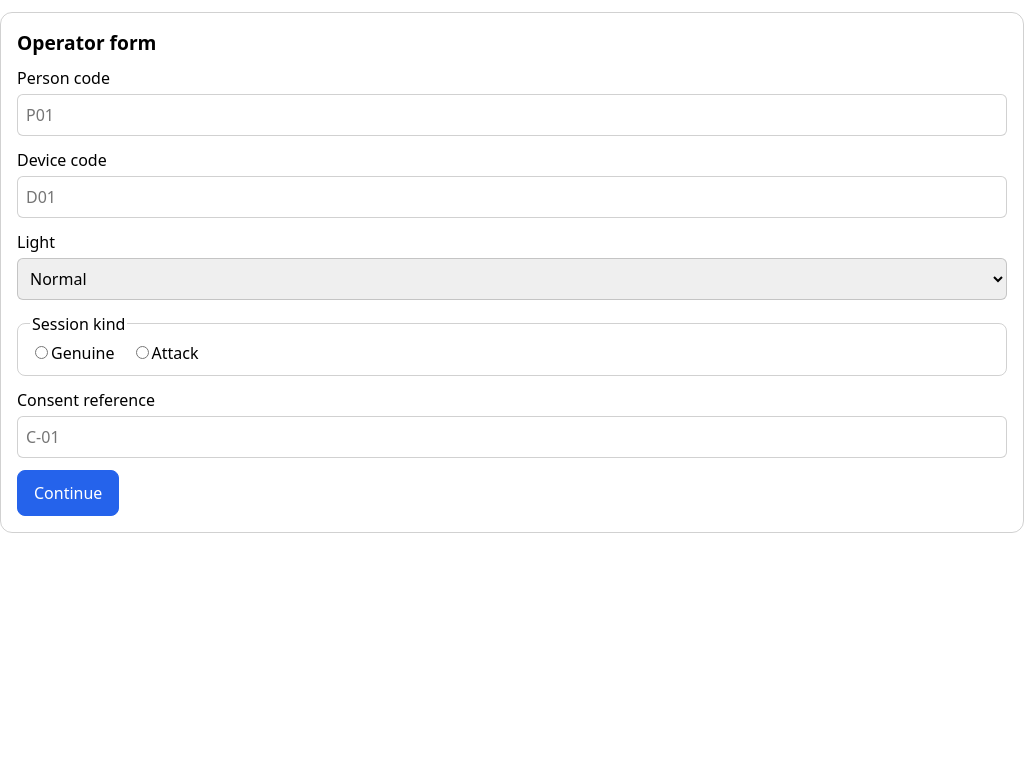
Test: OperatorForm › refuses to continue without the required fields, and says why
Type "Ravi" into the field labelled "Person code" at (512, 115), box 17,94 -> 1007,136
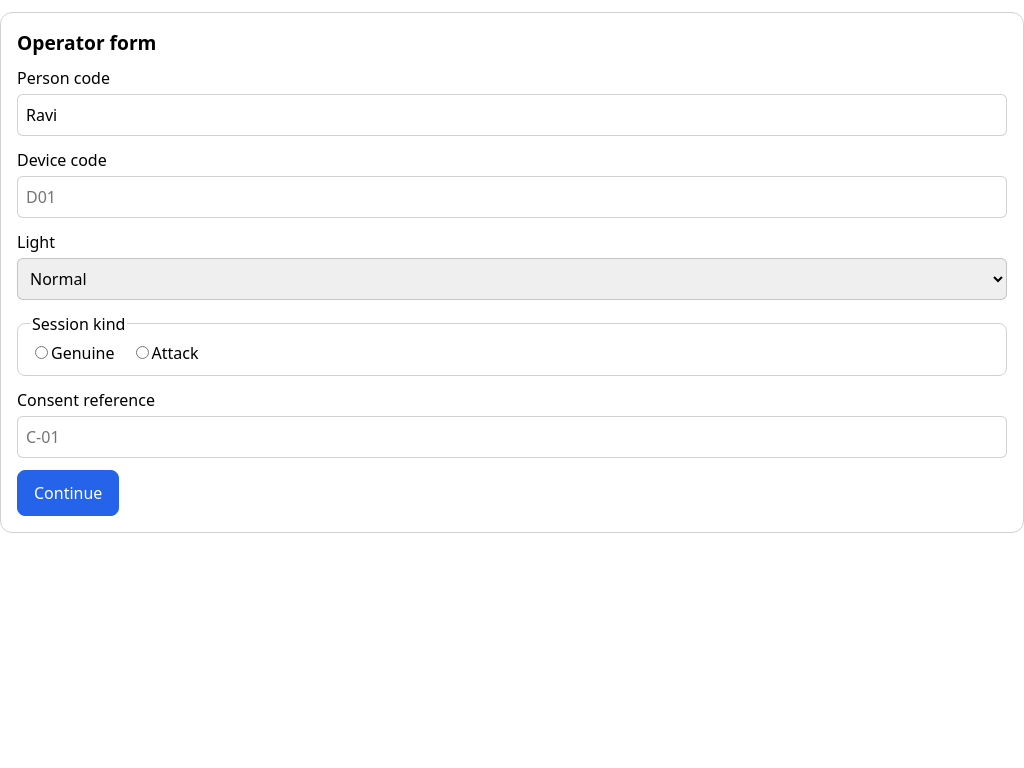
Click the button "Continue" at (68, 493), box 17,470 -> 119,516
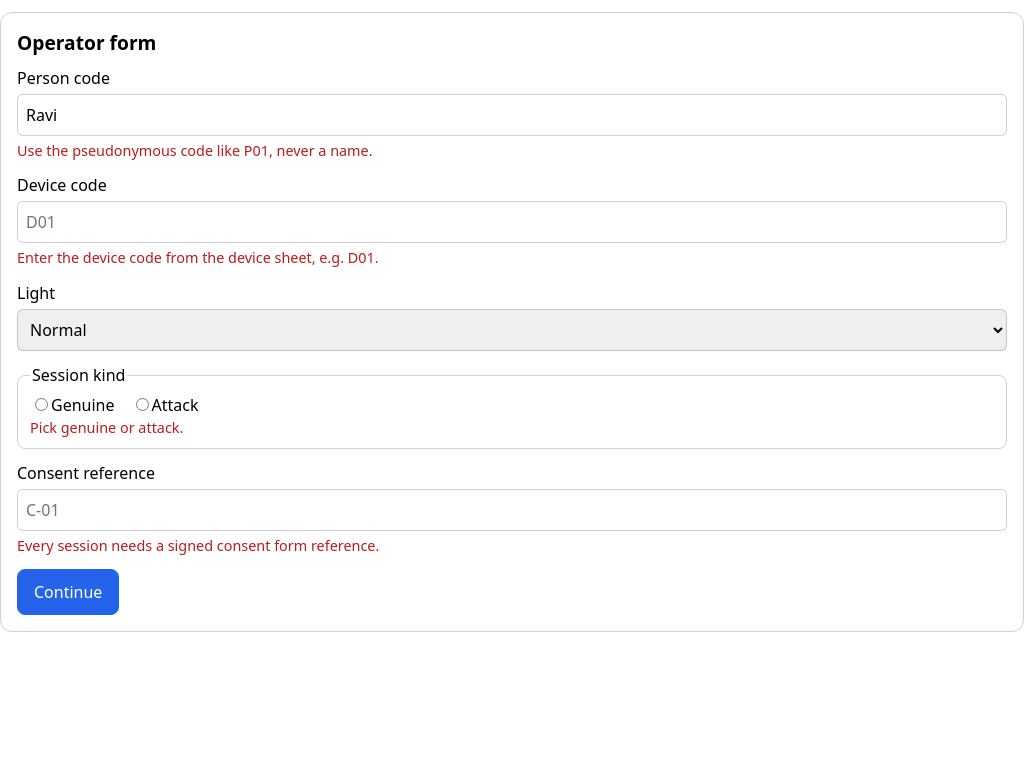
expect the text "Use the pseudonymous code like P01, never a name." is shown: met, box 17,141 -> 373,160
expect the text "Pick genuine or attack." is shown: met, box 30,418 -> 183,437
